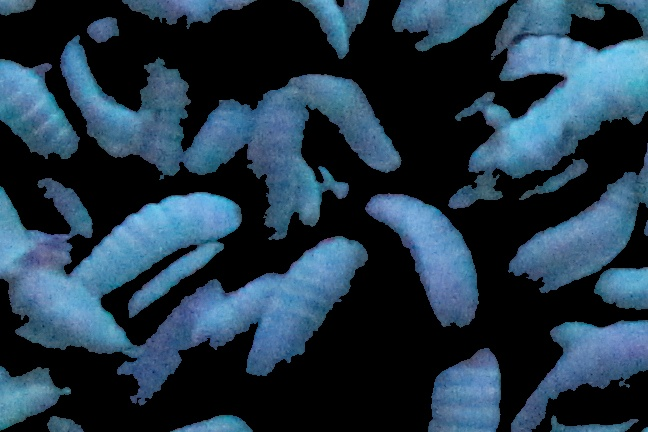larvae: (453, 54, 648, 180), (248, 230, 363, 401), (505, 166, 646, 296), (367, 192, 491, 335), (508, 311, 646, 432), (79, 194, 244, 289), (14, 272, 132, 360), (128, 37, 196, 186), (253, 87, 308, 270), (306, 76, 395, 173), (63, 37, 133, 158), (1, 59, 79, 161), (423, 341, 506, 432), (190, 279, 285, 339), (191, 91, 248, 177), (505, 33, 595, 80), (297, 1, 352, 62), (1, 1, 41, 22)
